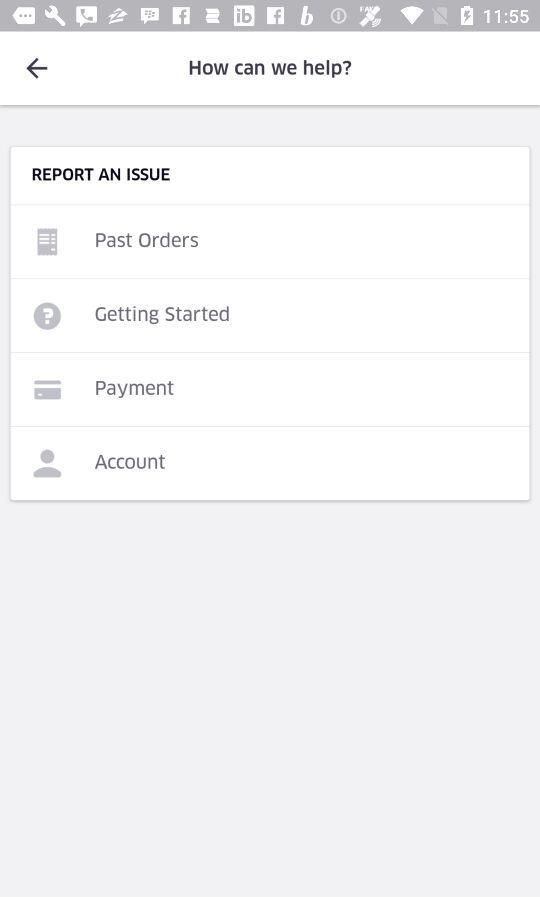Icon: (33, 449, 63, 479), (34, 303, 62, 331), (34, 379, 63, 401), (26, 58, 49, 80)
Image: (38, 228, 59, 258)
Text: (189, 60, 352, 79), (96, 305, 231, 326), (33, 167, 172, 182), (96, 232, 200, 249), (96, 381, 175, 399), (95, 453, 167, 470)
Toolbar: (1, 33, 540, 108)
UpperTaskBar: (1, 1, 540, 33)
